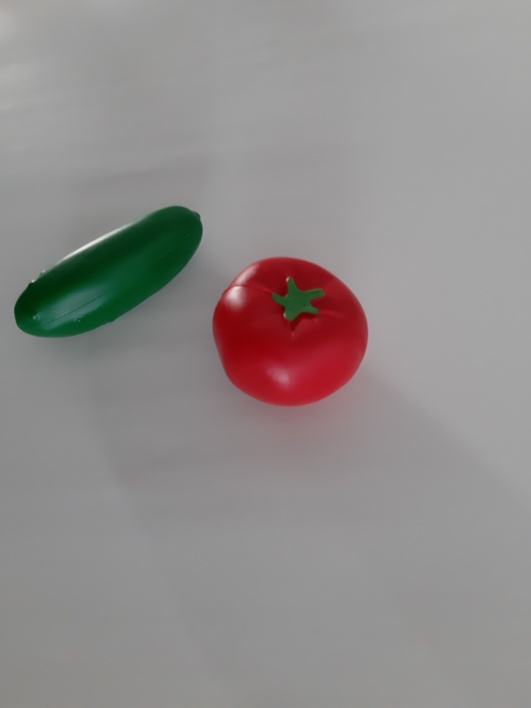cucumber: (4, 197, 209, 351)
tomato: (211, 248, 380, 413)
